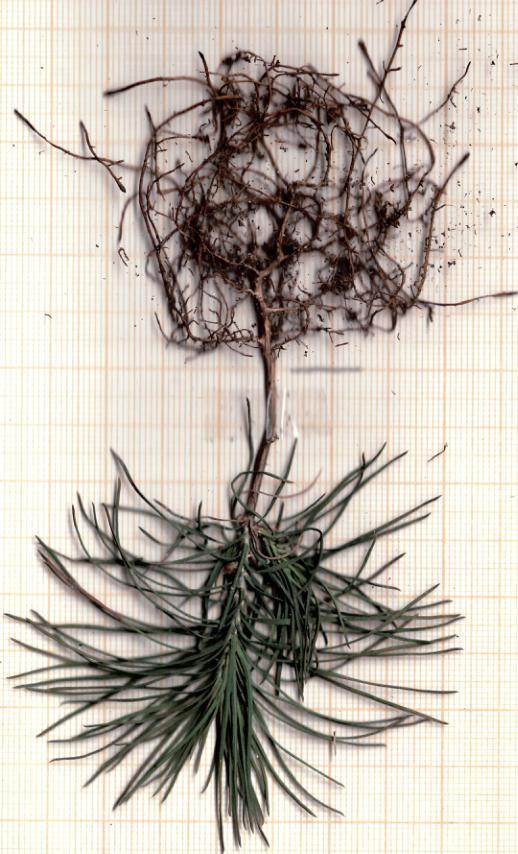flower: (2, 436, 468, 848)
root: (110, 54, 450, 361)
stem: (227, 357, 295, 513)
